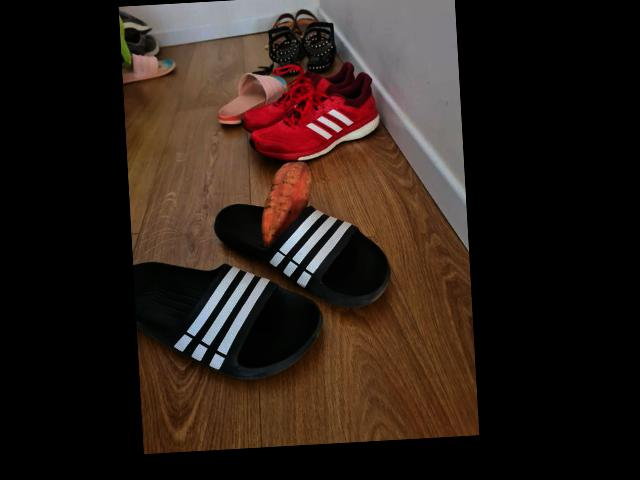sweet_potato: (258, 159, 316, 250)
